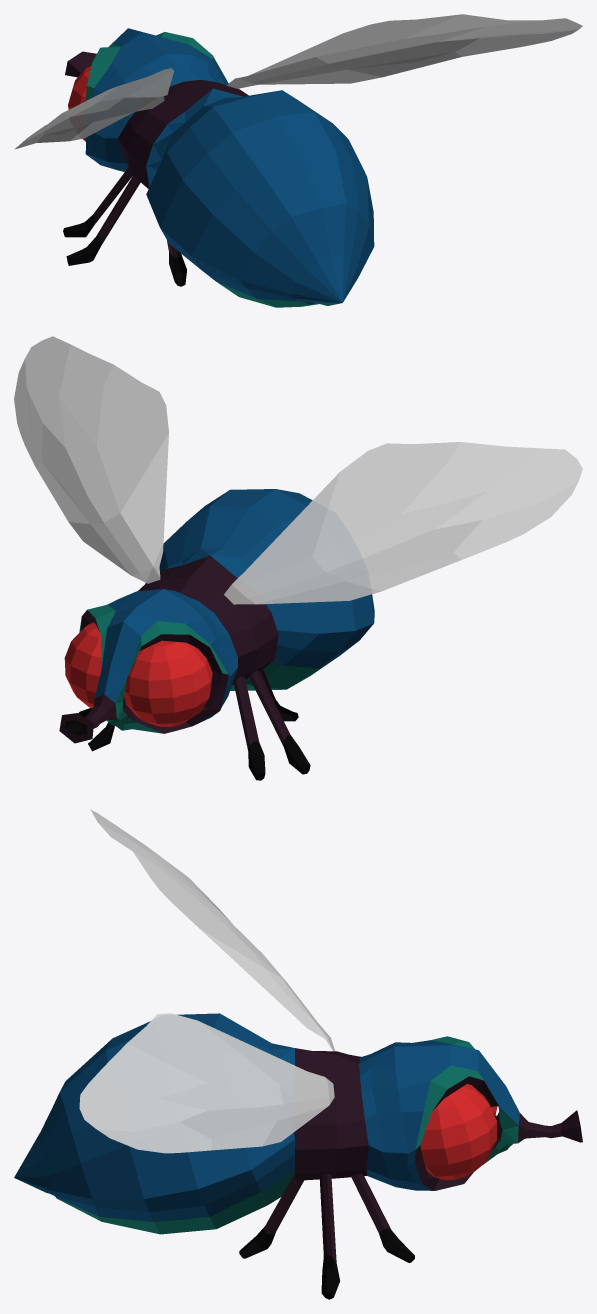
File: fly-simple-fbx.fbx
3 views of the same model, one above another, from view 1: azimuth 30°, elevation 25°; view 2: azimuth 150°, elevation 25°; view 3: azimuth 270°, elevation 25° (orthographic). The views are drawn at different scales.
Visible parts, largest first — view 1: body, right-wing, left-wing, right-wings, left-eye; view 2: left-wing, body, right-wing, left-eye, right-wings, right-eye; view 3: body, right-wing, left-wing, right-eye, left-legs.
Boxes of the visible parts, bbox=[...] form: body: bbox=[65, 28, 374, 307]; right-wing: bbox=[226, 14, 582, 88]; left-wing: bbox=[14, 68, 173, 149]; right-wings: bbox=[63, 167, 186, 286]; left-eye: bbox=[68, 66, 91, 141]; left-wing: bbox=[224, 442, 582, 604]; body: bbox=[59, 489, 374, 743]; right-wing: bbox=[14, 336, 168, 583]; left-eye: bbox=[124, 640, 212, 726]; right-wings: bbox=[233, 669, 310, 780]; right-eye: bbox=[64, 622, 101, 708]; body: bbox=[14, 1013, 582, 1234]; right-wing: bbox=[79, 1013, 334, 1153]; left-wing: bbox=[90, 809, 334, 1051]; right-eye: bbox=[420, 1084, 496, 1180]; left-legs: bbox=[239, 1173, 414, 1299].
Size of the model in its own units: 0.0775 by 0.0373 by 0.0643.
